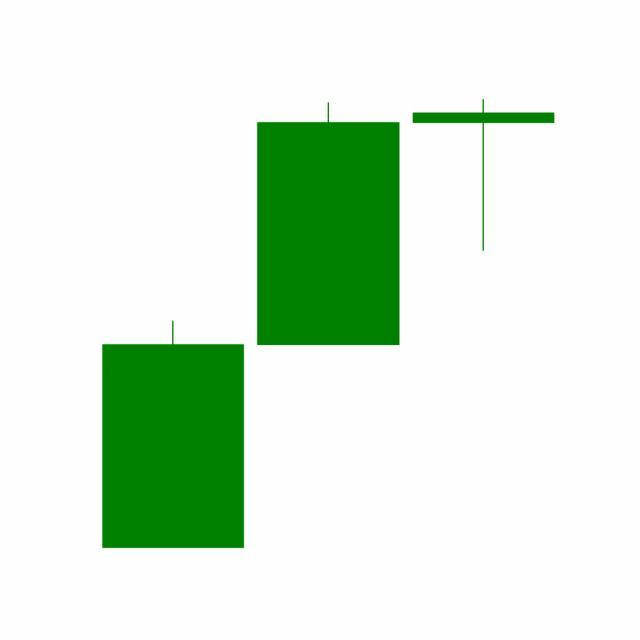Spinning Top: (406, 99, 562, 255)
